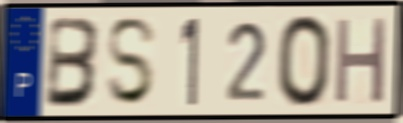1: (179, 15, 200, 109)
2: (224, 19, 269, 104)
B: (43, 14, 104, 110)
H: (333, 14, 390, 107)
O: (275, 12, 334, 111)
S: (104, 15, 159, 109)
